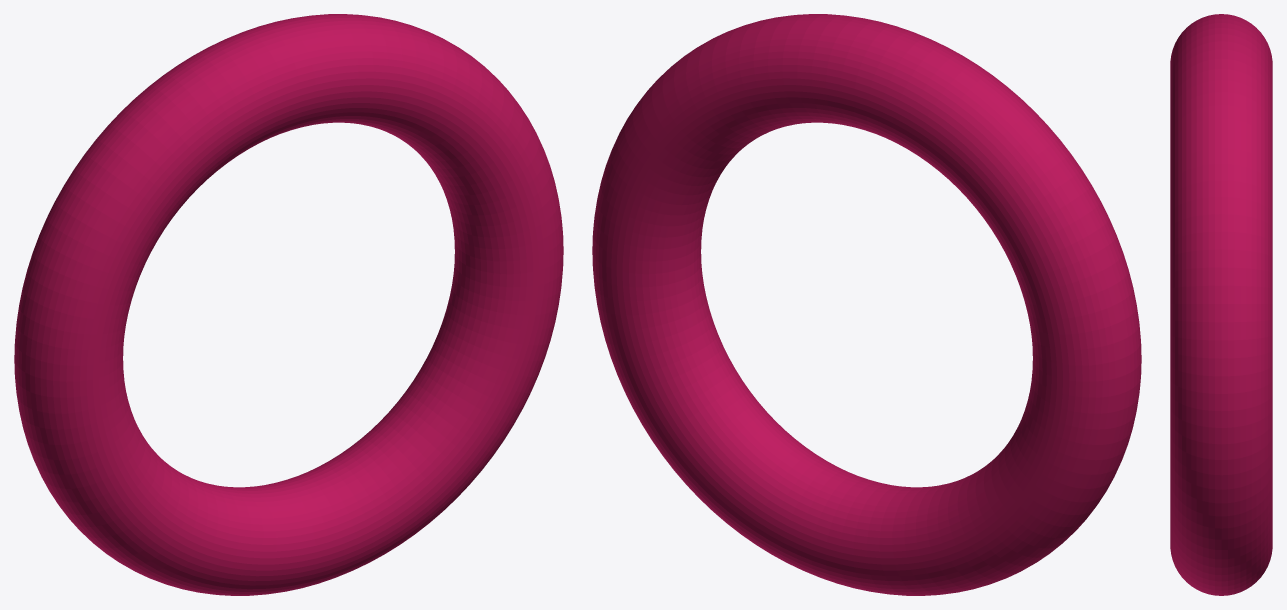
3 views of the same model, side by side, from view 1: azimuth 30°, elevation 25°; view 2: azimuth 150°, elevation 25°; view 3: azimuth 270°, elevation 25° (orthographic). The views are drawn at different scales.
Parts seen in each view (by area): view 1: world; view 2: world; view 3: world.
Boxes of the visible parts, bbox=[...] form: world: bbox=[14, 14, 563, 595]; world: bbox=[592, 14, 1141, 595]; world: bbox=[1170, 14, 1272, 595].
Size of the model in its own units: 23.47 by 23.47 by 4.13.
